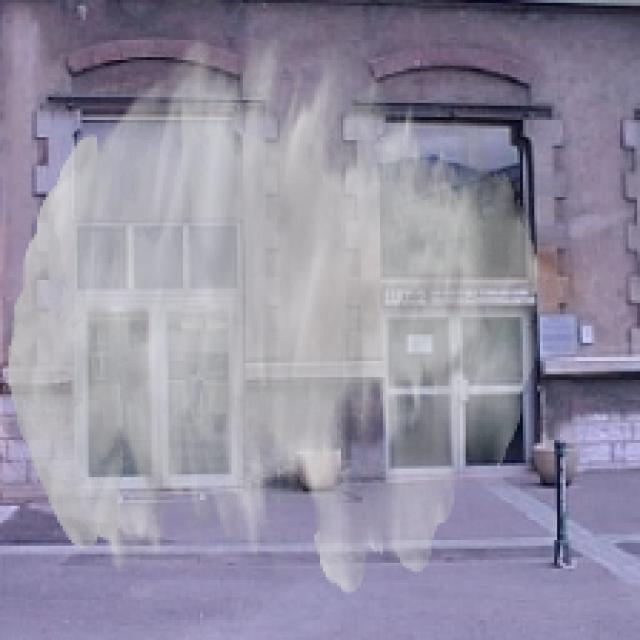smoke: (9, 32, 540, 594)
